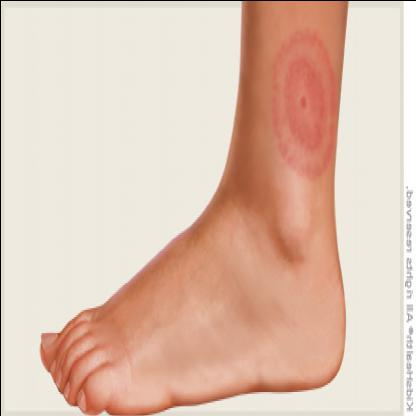Tick: (268, 25, 340, 182)
